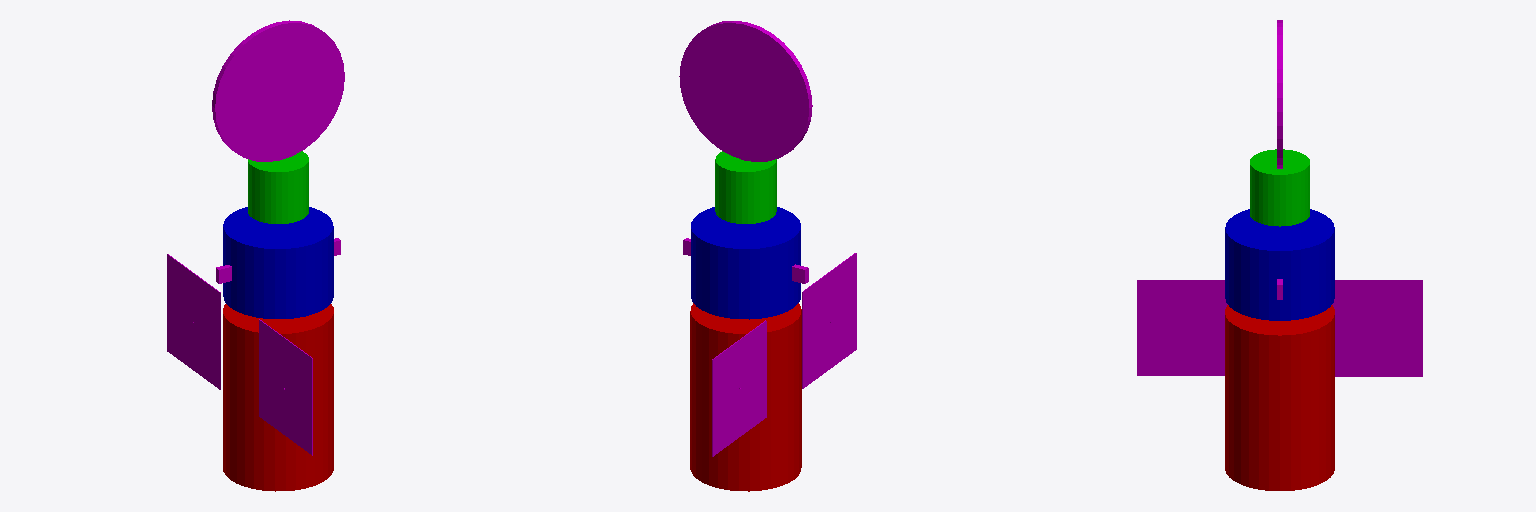
robot.urdf — naro:
<robot name="naro">

    <material name="blue">
        <color rgba="0 0 0.8 1"/>
    </material>
    <material name="red">
        <color rgba="0.8 0 0 1"/>
    </material>
    <material name="green">
        <color rgba="0 0.8 0 1"/>
    </material>
    <material name="purple">
        <color rgba="0.8 0 0.8 1"/>
    </material>

    <gazebo>
        <plugin name="gazebo_ros_control" filename="libgazebo_ros_control.so">
        </plugin>
    </gazebo>

	<!-- * * * Link Definitions * * * -->
    <link name="base_link">
 	    <inertial>
            <origin xyz="0 0 0" rpy="0 0 0"/>
            <mass value="1.40919" />
            <inertia ixx="0.0005726" ixy="0.0" ixz="0.0" iyy="0.0005726" iyz="0.0" izz="0.0002704"/>
        </inertial>
        <collision>
            <origin rpy="0.0 0 0" xyz="0 0 0"/>
            <geometry>
                <cylinder radius="0.052" length="0.162"/>
            </geometry>
        </collision>
        <visual>
            <origin rpy="0.0 0 0" xyz="0 0 0"/>
            <geometry>
                <cylinder radius="0.052" length="0.162"/>
            </geometry>
            <material name="red"/>
        </visual>
	</link>

    <gazebo reference="base_link">
        <kp>1000000.0</kp>
        <kd>1000000.0</kd>
        <mu1>10.0</mu1>
        <mu2>10.0</mu2>
        <material>Gazebo/Red</material>
    </gazebo>

    <link name="NaroBody_2_link">
 	    <inertial>
            <origin xyz="0 0 0.0362" rpy="0 0 0"/>
            <mass value="0.6199" />
            <inertia ixx="0.000220439071667" ixy="0.0" ixz="0.0" iyy="0.000220439071667" iyz="0.0" izz="0.00026615281"/>
        </inertial>
        <collision>
            <origin xyz="0 0 0.0362" rpy="0 0 0"/>
            <geometry>
                <cylinder radius="0.05159" length="0.0724"/>
            </geometry>
        </collision>
        <visual>
            <origin xyz="0 0 0.0362" rpy="0 0 0"/>
            <geometry>
                <cylinder radius="0.05159" length="0.0724"/>
            </geometry>
            <material name="blue"/>
        </visual>


	</link>
    <!-- This is for color and physical properties in Gazebo, color won't work with the material tag in gazebo
    only for URDF coloring -->
    <gazebo reference="NaroBody_2_link">
        <kp>1000000.0</kp>
        <kd>1000000.0</kd>
        <mu1>10.0</mu1>
        <mu2>10.0</mu2>
        <material>Gazebo/Blue</material>



    </gazebo>

    <joint name="NaroBody_1_NaroBody_2_joint" type="revolute">
    	<parent link="base_link"/>
    	<child link="NaroBody_2_link"/>
        <origin xyz="0 0 0.096" rpy="0 0 0"/>
        <limit lower="-0.2" upper="0.2" effort="10.0" velocity="1.0"/>
        <axis xyz="1 0 0"/>
	</joint>
	
    <transmission name="tran1">
        <type>transmission_interface/SimpleTransmission</type>
        <joint name="NaroBody_1_NaroBody_2_joint">
            <hardwareInterface>EffortJointInterface</hardwareInterface>
        </joint>
        <actuator name="motor1">
            <hardwareInterface>EffortJointInterface</hardwareInterface>
            <mechanicalReduction>1</mechanicalReduction>
        </actuator>
    </transmission>

    <link name="NaroBody_3_link">
 	    <inertial>
            <origin xyz="0 0 0.0267885" rpy="0 0 0"/>
            <mass value="0.141" />
            <inertia ixx="8.87413829167e-05" ixy="0.0" ixz="0.0" iyy="8.87413829167e-05" iyz="0.0" izz="8.18246025e-05"/>
        </inertial>
        <collision>
            <origin xyz="0 0 0.0267885" rpy="0 0 0"/>
            <geometry>
                <cylinder radius="0.028605" length="0.05357"/>
            </geometry>
        </collision>
        <visual>
            <origin xyz="0 0 0.0267885" rpy="0 0 0"/>
            <geometry>
                <cylinder radius="0.028605" length="0.05357"/>
            </geometry>
            <material name="green"/>
        </visual>
	</link>
    <!-- This is for color and physical properties in Gazebo, color won't work with the material tag in gazebo
    only for URDF coloring -->
    <gazebo reference="NaroBody_3_link">
        <kp>1000000.0</kp>
        <kd>1000000.0</kd>
        <mu1>10.0</mu1>
        <mu2>10.0</mu2>
        <material>Gazebo/Green</material>



    </gazebo>

    <joint name="NaroBody_2_NaroBody_3_joint" type="revolute">
    	<parent link="NaroBody_2_link"/>
    	<child link="NaroBody_3_link"/>
        <origin xyz="0 0 0.0874" rpy="0 0 0"/>
        <limit lower="-0.2" upper="0.2" effort="5.0" velocity="1.0"/>
        <axis xyz="1 0 0"/>
	</joint>
	
    <transmission name="tran2">
        <type>transmission_interface/SimpleTransmission</type>
        <joint name="NaroBody_2_NaroBody_3_joint">
            <hardwareInterface>EffortJointInterface</hardwareInterface>
        </joint>
        <actuator name="motor2">
            <hardwareInterface>EffortJointInterface</hardwareInterface>
            <mechanicalReduction>1</mechanicalReduction>
        </actuator>
    </transmission>
    
    
    <link name="Naro_caudal_fin_link">
 	    <inertial>
            <origin xyz="0 0.07 0" rpy="0 0 0"/>
            <mass value="0.0945" />
            <inertia ixx="0.000220439071667" ixy="0.0" ixz="0.0" iyy="0.000220439071667" iyz="0.0" izz="0.00026615281"/>
        </inertial>
        <collision>
            <origin xyz="0 0.07 0" rpy="0 0 0"/>
            <geometry>
                <cylinder radius="0.07" length="0.006"/>
            </geometry>
        </collision>
        <visual>
            <origin xyz="0 0.07 0" rpy="0 0 0"/>
            <geometry>
                <cylinder radius="0.07" length="0.006"/>
            </geometry>
            <material name="purple"/>
        </visual>
	</link>
    <!-- This is for color and physical properties in Gazebo, color won't work with the material tag in gazebo
    only for URDF coloring -->
    <gazebo reference="Naro_caudal_fin_link">
        <kp>1000000.0</kp>
        <kd>1000000.0</kd>
        <mu1>10.0</mu1>
        <mu2>10.0</mu2>
        <material>Gazebo/Purple</material>



    </gazebo>

    <joint name="NaroBody_3_Naro_caudal_fin_joint" type="revolute">
    	<parent link="NaroBody_3_link"/>
    	<child link="Naro_caudal_fin_link"/>
        <origin xyz="0 0 0.05357" rpy="1.5707963267948966 0 0"/>
        <limit lower="-1.0" upper="1.0" effort="5.0" velocity="1.0"/>
        <axis xyz="1 0 0"/>
	</joint>
	
    <transmission name="tran3">
        <type>transmission_interface/SimpleTransmission</type>
        <joint name="NaroBody_3_Naro_caudal_fin_joint">
            <hardwareInterface>EffortJointInterface</hardwareInterface>
        </joint>
        <actuator name="motor3">
            <hardwareInterface>EffortJointInterface</hardwareInterface>
            <mechanicalReduction>1</mechanicalReduction>
        </actuator>
    </transmission>
    

<!--3-dof Naro_pectoral_fin_right_link!-->    
    <link name="Naro_pectoral_fin_right_link_freedom1">
 	    <inertial>
            <origin xyz="0 0 0" rpy="0 0 0"/>
            <mass value="0.001" />
            <inertia ixx="3.15811533333e-05" ixy="0.0" ixz="0.0" iyy="3.00804033333e-05" iyz="0.0" izz="2.10075e-06"/>
        </inertial>
        <collision>
            <origin xyz="0 0 0" rpy="0 0 0"/>
            <geometry>
                <box size="0.001 0.001 0.001" />
            </geometry>
        </collision>
        <visual>
            <origin xyz="0 0 0" rpy="0 0 0"/>
            <geometry>
               <box size="0.001 0.001 0.001" />
            </geometry>
            <material name="purple"/>
        </visual>

	</link>
    <joint name="NaroBody_1_Naro_pectoral_fin_right_joint_1" type="revolute">
    	<parent link="base_link"/>
    	<child link="Naro_pectoral_fin_right_link_freedom1"/>
        <origin xyz="-0.04275 -0.08489 0.04478" rpy="1.5707963267948966 0 0"/>
        <limit lower="-0.4" upper="0.4" effort="0.1" velocity="0.5"/>
        <axis xyz="1 0 0"/>
	</joint>
    
    <link name="Naro_pectoral_fin_right_link_freedom2">
 	    <inertial>
            <origin xyz="0 0 0" rpy="0 0 0"/>
            <mass value="0.001" />
            <inertia ixx="3.15811533333e-05" ixy="0.0" ixz="0.0" iyy="3.00804033333e-05" iyz="0.0" izz="2.10075e-06"/>
        </inertial>
        <collision>
            <origin xyz="0 0 0" rpy="0 0 0"/>
            <geometry>
                <box size="0.001 0.001 0.001" />
            </geometry>
        </collision>
        <visual>
            <origin xyz="0 0 0" rpy="0 0 0"/>
            <geometry>
               <box size="0.001 0.001 0.001" />
            </geometry>
            <material name="purple"/>
        </visual>
	</link>
    <joint name="NaroBody_1_Naro_pectoral_fin_right_joint_2" type="revolute">
    	<parent link="Naro_pectoral_fin_right_link_freedom1"/>
    	<child link="Naro_pectoral_fin_right_link_freedom2"/>
        <origin xyz="0.002 0 0" rpy="0 0 0"/>
        <limit lower="-0.4" upper="0.4" effort="0.1" velocity="0.5"/>
        <axis xyz="0 1 0"/>
	</joint>



    <link name="Naro_pectoral_fin_right_link">
 	    <inertial>
            <origin xyz="0 0 0" rpy="0 0 0"/>
            <mass value="0.01" />
            <inertia ixx="3.15811533333e-05" ixy="0.0" ixz="0.0" iyy="3.00804033333e-05" iyz="0.0" izz="2.10075e-06"/>
        </inertial>
        <collision>
            <origin xyz="0 0 0" rpy="0 0 0"/>
            <geometry>
                <box size="0.001 0.1 0.1" />
            </geometry>
        </collision>
        <visual>
            <origin xyz="0 0 0" rpy="0 0 0"/>
            <geometry>
                <box size="0.001 0.1 0.1" />
            </geometry>
            <material name="purple"/>
        </visual>
	</link>



    <gazebo reference="Naro_pectoral_fin_right_link_freedom1">
        <kp>1000000.0</kp>
        <kd>1000000.0</kd>
        <mu1>10.0</mu1>
        <mu2>10.0</mu2>
        <material>Gazebo/Purple</material>
    </gazebo>
    <gazebo reference="Naro_pectoral_fin_right_link_freedom2">
        <kp>1000000.0</kp>
        <kd>1000000.0</kd>
        <mu1>10.0</mu1>
        <mu2>10.0</mu2>
        <material>Gazebo/Purple</material>
    </gazebo>
        <gazebo reference="Naro_pectoral_fin_right_link">
        <kp>1000000.0</kp>
        <kd>1000000.0</kd>
        <mu1>10.0</mu1>
        <mu2>10.0</mu2>
        <material>Gazebo/Purple</material>




    </gazebo>
    <joint name="NaroBody_1_Naro_pectoral_fin_right_joint_3" type="revolute">
    	<parent link="Naro_pectoral_fin_right_link_freedom2"/>
    	<child link="Naro_pectoral_fin_right_link"/>
        <origin xyz="0 0.001 0" rpy="0 0 0"/>
        <limit lower="-1.57" upper="1.57" effort="0.1" velocity="0.5"/>
        <axis xyz="0 0 1"/>
	</joint>
    <transmission name="tran4_joint1">
        <type>transmission_interface/SimpleTransmission</type>
        <joint name="NaroBody_1_Naro_pectoral_fin_right_joint_1">
            <hardwareInterface>EffortJointInterface</hardwareInterface>
        </joint>
        <actuator name="motor4_1">
            <hardwareInterface>EffortJointInterface</hardwareInterface>
            <mechanicalReduction>1</mechanicalReduction>
        </actuator>
    </transmission>
    <transmission name="tran4_joint2">
        <type>transmission_interface/SimpleTransmission</type>
        <joint name="NaroBody_1_Naro_pectoral_fin_right_joint_2">
            <hardwareInterface>EffortJointInterface</hardwareInterface>
        </joint>
        <actuator name="motor4_2">
            <hardwareInterface>EffortJointInterface</hardwareInterface>
            <mechanicalReduction>1</mechanicalReduction>
        </actuator>
    </transmission>	
    <transmission name="tran4_joint3">
        <type>transmission_interface/SimpleTransmission</type>
        <joint name="NaroBody_1_Naro_pectoral_fin_right_joint_3">
            <hardwareInterface>EffortJointInterface</hardwareInterface>
        </joint>
        <actuator name="motor4_3">
            <hardwareInterface>EffortJointInterface</hardwareInterface>
            <mechanicalReduction>1</mechanicalReduction>
        </actuator>
    </transmission>
    
<!--3-dof Naro_pectoral_fin_left_link!-->

    <link name="Naro_pectoral_fin_left_link_freedom1">
 	    <inertial>
            <origin xyz="0 0 0" rpy="0 0 0"/>
            <mass value="0.001" />
            <inertia ixx="3.15811533333e-05" ixy="0.0" ixz="0.0" iyy="3.00804033333e-05" iyz="0.0" izz="2.10075e-06"/>
        </inertial>
        <collision>
            <origin xyz="0 0 0" rpy="0 0 0"/>
            <geometry>
                <box size="0.001 0.001 0.001" />
            </geometry>
        </collision>
        <visual>
            <origin xyz="0 0 0" rpy="0 0 0"/>
            <geometry>
               <box size="0.001 0.001 0.001" />
            </geometry>
            <material name="purple"/>
        </visual>
	</link>
    <joint name="NaroBody_1_Naro_pectoral_fin_left_joint_1" type="revolute">
    	<parent link="base_link"/>
    	<child link="Naro_pectoral_fin_left_link_freedom1"/>
        <origin xyz="-0.04275 0.08489 0.04478" rpy="1.5707963267948966 0 0"/>
        <limit lower="-0.4" upper="0.4" effort="0.1" velocity="0.5"/>
        <axis xyz="1 0 0"/>
	</joint>
    
    <link name="Naro_pectoral_fin_left_link_freedom2">
 	    <inertial>
            <origin xyz="0 0 0" rpy="0 0 0"/>
            <mass value="0.001" />
            <inertia ixx="3.15811533333e-05" ixy="0.0" ixz="0.0" iyy="3.00804033333e-05" iyz="0.0" izz="2.10075e-06"/>
        </inertial>
        <collision>
            <origin xyz="0 0 0" rpy="0 0 0"/>
            <geometry>
                <box size="0.001 0.001 0.001" />
            </geometry>
        </collision>
        <visual>
            <origin xyz="0 0 0" rpy="0 0 0"/>
            <geometry>
               <box size="0.001 0.001 0.001" />
            </geometry>
            <material name="purple"/>
        </visual>
	</link>
    <joint name="NaroBody_1_Naro_pectoral_fin_left_joint_2" type="revolute">
    	<parent link="Naro_pectoral_fin_left_link_freedom1"/>
    	<child link="Naro_pectoral_fin_left_link_freedom2"/>
        <origin xyz="0.001 0 0" rpy="0 0 0"/>
        <limit lower="-0.4" upper="0.4" effort="0.1" velocity="0.5"/>
        <axis xyz="0 1 0"/>
	</joint>
    <link name="Naro_pectoral_fin_left_link">
 	    <inertial>
            <origin xyz="0 0 0" rpy="0 0 0"/>
            <mass value="0.01" />
            <inertia ixx="3.15811533333e-05" ixy="0.0" ixz="0.0" iyy="3.00804033333e-05" iyz="0.0" izz="2.10075e-06"/>
        </inertial>
        <collision>
            <origin xyz="0 0 0" rpy="0 0 0"/>
            <geometry>
                <box size="0.001 0.1 0.1" />
            </geometry>
        </collision>
        <visual>
            <origin xyz="0 0 0" rpy="0 0 0"/>
            <geometry>
                <box size="0.001 0.1 0.1" />
            </geometry>
            <material name="purple"/>
        </visual>
	</link>
  

    <gazebo reference="Naro_pectoral_fin_left_link_freedom1">
        <kp>1000000.0</kp>
        <kd>1000000.0</kd>
        <mu1>10.0</mu1>
        <mu2>10.0</mu2>
        <material>Gazebo/Purple</material>
    </gazebo>
    <gazebo reference="Naro_pectoral_fin_left_link_freedom2">
        <kp>1000000.0</kp>
        <kd>1000000.0</kd>
        <mu1>10.0</mu1>
        <mu2>10.0</mu2>
        <material>Gazebo/Purple</material>
    </gazebo>
    <gazebo reference="Naro_pectoral_fin_left_link">
        <kp>1000000.0</kp>
        <kd>1000000.0</kd>
        <mu1>10.0</mu1>
        <mu2>10.0</mu2>
        <material>Gazebo/Purple</material>



    </gazebo>

    <joint name="NaroBody_1_Naro_pectoral_fin_left_joint_3" type="revolute">
    	<parent link="Naro_pectoral_fin_left_link_freedom2"/>
    	<child link="Naro_pectoral_fin_left_link"/>
        <origin xyz="0 0 0" rpy="0 0 0"/>
        <limit lower="-1.57" upper="1.57" effort="0.1" velocity="0.5"/>
        <axis xyz="0 0 1"/>
	</joint>
	
    <transmission name="tran5_freedom1">
        <type>transmission_interface/SimpleTransmission</type>
        <joint name="NaroBody_1_Naro_pectoral_fin_left_joint_1">
            <hardwareInterface>EffortJointInterface</hardwareInterface>
        </joint>
        <actuator name="motor5_1">
            <hardwareInterface>EffortJointInterface</hardwareInterface>
            <mechanicalReduction>1</mechanicalReduction>
        </actuator>
    </transmission>
    <transmission name="tran5_freedom2">
        <type>transmission_interface/SimpleTransmission</type>
        <joint name="NaroBody_1_Naro_pectoral_fin_left_joint_2">
            <hardwareInterface>EffortJointInterface</hardwareInterface>
        </joint>
        <actuator name="motor5_2">
            <hardwareInterface>EffortJointInterface</hardwareInterface>
            <mechanicalReduction>1</mechanicalReduction>
        </actuator>
    </transmission>
    <transmission name="tran5_freedom3">
        <type>transmission_interface/SimpleTransmission</type>
        <joint name="NaroBody_1_Naro_pectoral_fin_left_joint_3">
            <hardwareInterface>EffortJointInterface</hardwareInterface>
        </joint>
        <actuator name="motor5_3">
            <hardwareInterface>EffortJointInterface</hardwareInterface>
            <mechanicalReduction>1</mechanicalReduction>
        </actuator>
    </transmission>
   
    <link name="Naro_dorsal_fin_up_link">
 	    <inertial>
            <origin xyz="0 0 0" rpy="0 0 0"/>
            <mass value="0.05" />
            <inertia ixx="3.15811533333e-05" ixy="0.0" ixz="0.0" iyy="3.00804033333e-05" iyz="0.0" izz="2.10075e-06"/>
        </inertial>
        <collision>
            <origin xyz="0 0 0" rpy="0 0 0"/>
            <geometry>
                <box size="0.006 0.0147 0.05978" />
            </geometry>
        </collision>
        <visual>
            <origin xyz="0 0 0" rpy="0 0 0"/>
            <geometry>
                <box size="0.0147 0.006 0.05978" />
            </geometry>
            <material name="purple"/>
        </visual>
	</link>
	
	<gazebo reference="Naro_dorsal_fin_up_link">
        <kp>1000000.0</kp>
        <kd>1000000.0</kd>
        <mu1>10.0</mu1>
        <mu2>10.0</mu2>
        <material>Gazebo/Purple</material>
    </gazebo>
    
    <joint name="NaroBody_1_Naro_dorsal_fin_up_joint" type="fixed">
        <parent link="NaroBody_2_link"/>
        <child link="Naro_dorsal_fin_up_link"/>
        <origin xyz="0.035795 0 0.0362" rpy="0 1.5707963267948966 0"/>
    </joint>
    
    
        <link name="Naro_dorsal_fin_down_link">
 	    <inertial>
            <origin xyz="0 0 0" rpy="0 0 0"/>
            <mass value="0.05" />
            <inertia ixx="3.15811533333e-05" ixy="0.0" ixz="0.0" iyy="3.00804033333e-05" iyz="0.0" izz="2.10075e-06"/>
        </inertial>
        <collision>
            <origin xyz="0 0 0" rpy="0 0 0"/>
            <geometry>
                <box size="0.006 0.0147 0.05978" />
            </geometry>
        </collision>
        <visual>
            <origin xyz="0 0 0" rpy="0 0 0"/>
            <geometry>
                <box size="0.0147 0.006 0.05978" />
            </geometry>
            <material name="purple"/>
        </visual>
	</link>
	
	<gazebo reference="Naro_dorsal_fin_down_link">
        <kp>1000000.0</kp>
        <kd>1000000.0</kd>
        <mu1>10.0</mu1>
        <mu2>10.0</mu2>
        <material>Gazebo/Purple</material>
    </gazebo>
    
    <joint name="NaroBody_1_Naro_dorsal_fin_down_joint" type="fixed">
        <parent link="NaroBody_2_link"/>
        <child link="Naro_dorsal_fin_down_link"/>
        <origin xyz="-0.035795 0 0.0362" rpy="0 1.5707963267948966 0"/>
    </joint>
<!-- test of lift and drag-->
    <gazebo>
    <plugin name="lifting_surface6" filename="libLiftDragPlugin.so">
        <a0>0</a0>
        <alpha_stall>1.57</alpha_stall>
        <cla>0</cla>
        <cla_stall>0</cla_stall>
        <cda>0.0</cda>
        <cda_stall>0</cda_stall>
        <cma>0.0</cma>
        <cma_stall>0.0</cma_stall>
        <area>0.01</area>
        <fluid_density>1024.1</fluid_density>
        <forward>0 1 0</forward>
        <upward>0 0 1</upward>
        <cp>0 0 0</cp>
        <link_name>base_link</link_name>
        <radial_symmetry>false</radial_symmetry>
      </plugin>
    </gazebo>

    <gazebo>
    <plugin name="lifting_surface4" filename="libLiftDragPlugin.so">
        <a0>0</a0>
        <alpha_stall>0.3368</alpha_stall>
        <cla>0</cla>
        <cla_stall>0</cla_stall>
        <cda>0.0</cda>
        <cda_stall>0</cda_stall>
        <cma>0.0</cma>
        <cma_stall>0.0</cma_stall>
        <area>0.0001</area>
        <fluid_density>1024.1</fluid_density>
        <forward>0 1 0</forward>
        <upward>0 0 1</upward>
        <cp>0 0 0</cp>
        <link_name>NaroBody_2_link</link_name>
        <radial_symmetry>false</radial_symmetry>
      </plugin>
    
    </gazebo>

    <gazebo>
      <plugin name="lifting_surface5" filename="libLiftDragPlugin.so">
        <a0>0</a0>
        <alpha_stall>1.57</alpha_stall>
        <cla>0</cla>
        <cla_stall>0</cla_stall>
        <cda>0.0</cda>
        <cda_stall>0</cda_stall>
        <cma>0.0</cma>
        <cma_stall>0.0</cma_stall>
        <area>0.0001</area>
        <fluid_density>1024.1</fluid_density>
        <forward>0 1 0</forward>
        <upward>0 0 1</upward>
        <cp>0 0 0</cp>
        <link_name>NaroBody_3_link</link_name>
        <radial_symmetry>false</radial_symmetry>
      </plugin>
    </gazebo>

    <gazebo>
      <plugin name="lifting_surface3" filename="libLiftDragPlugin.so">
            <air_density>1000</air_density>
	        <cla>0</cla>
	        <cla_stall>0</cla_stall>
	        <cda>1.2535816618911175</cda>
	        <cda_stall>1.4326647564469914</cda_stall>
	        <alpha_stall>0</alpha_stall>
	        <a0>0</a0>
            <area>0.0334265458342</area>
        <forward>1 0 0</forward>
        <upward>0 0 1</upward>
        <cp>0 0.07 0</cp>
        <link_name>Naro_caudal_fin_link</link_name>
        <radial_symmetry>false</radial_symmetry>
      </plugin>
    </gazebo>

    <gazebo>
      <plugin name="lifting_surface1" filename="libLiftDragPlugin.so">
        <a0>0</a0>
        <alpha_stall>0.3368</alpha_stall>
        <cla>5.418</cla>
        <cla_stall>-2.1419</cla_stall>
         <cda>5.2</cda>
        <cda_stall>0.2</cda_stall>
        <air_density>1000</air_density>
        <area>0.01</area>
        <forward>0 -1 0</forward>
        <upward>1 0 0</upward>
        <cp>0 0 0</cp>
        <link_name>Naro_pectoral_fin_left_link</link_name>
        <radial_symmetry>false</radial_symmetry>
      </plugin>    
    
    </gazebo>
    <gazebo>
          <plugin name="lifting_surface2" filename="libLiftDragPlugin.so">
        <a0>0</a0>
        <alpha_stall>0.3368</alpha_stall>
        <cla>5.418</cla>
        <cla_stall>-2.1419</cla_stall>
         <cda>5.2</cda>
        <cda_stall>2.2</cda_stall>
        <area>0.01</area>
        <air_density>1000</air_density>
        <cp>0 0 0</cp>
        <forward>0 -1 0</forward>
        <upward>1 0 0</upward>
        <link_name>Naro_pectoral_fin_right_link</link_name>
        <radial_symmetry>false</radial_symmetry>
      </plugin>
    </gazebo>

    <gazebo>
          <plugin name="BuoyancyPlugin1" filename="libBuoyancyPlugin.so">
            <!-- a viscous liquid -->
            <fluid_density>1024</fluid_density>
        </plugin>
    </gazebo>



</robot>

--- Facts derived from the render (not from the file) ---
3 views of the same robot in one strip: view 1: azimuth 30°, elevation 25°; view 2: azimuth 150°, elevation 25°; view 3: azimuth 270°, elevation 25° (orthographic).
Model naro with 12 links and 11 joints (9 revolute, 2 fixed), rooted at base_link, posed every joint at zero.
Links seen in each view (by area): view 1: Naro_caudal_fin_link, base_link, NaroBody_2_link, Naro_pectoral_fin_left_link, Naro_pectoral_fin_right_link, NaroBody_3_link; view 2: Naro_caudal_fin_link, base_link, NaroBody_2_link, Naro_pectoral_fin_right_link, Naro_pectoral_fin_left_link, NaroBody_3_link; view 3: base_link, NaroBody_2_link, Naro_pectoral_fin_left_link, Naro_pectoral_fin_right_link, NaroBody_3_link, Naro_caudal_fin_link.
Boxes of the visible links, x1,y1,x2,y2 form: Naro_caudal_fin_link: (212,20,344,161); base_link: (223,304,333,491); NaroBody_2_link: (223,207,333,318); Naro_pectoral_fin_left_link: (167,254,220,389); Naro_pectoral_fin_right_link: (259,319,312,455); NaroBody_3_link: (248,151,308,223); Naro_caudal_fin_link: (679,21,812,161); base_link: (690,303,801,491); NaroBody_2_link: (691,207,800,319); Naro_pectoral_fin_right_link: (802,253,856,388); Naro_pectoral_fin_left_link: (712,320,766,456); NaroBody_3_link: (715,151,776,223); base_link: (1225,305,1334,490); NaroBody_2_link: (1225,209,1334,320); Naro_pectoral_fin_left_link: (1332,280,1422,376); Naro_pectoral_fin_right_link: (1137,280,1227,375); NaroBody_3_link: (1250,149,1309,226); Naro_caudal_fin_link: (1277,20,1282,168).
Size in the robot's own frame: 0.14 by 0.2698 by 0.458 metres.
Geometry: primitives only (box / cylinder / sphere), no mesh files.
